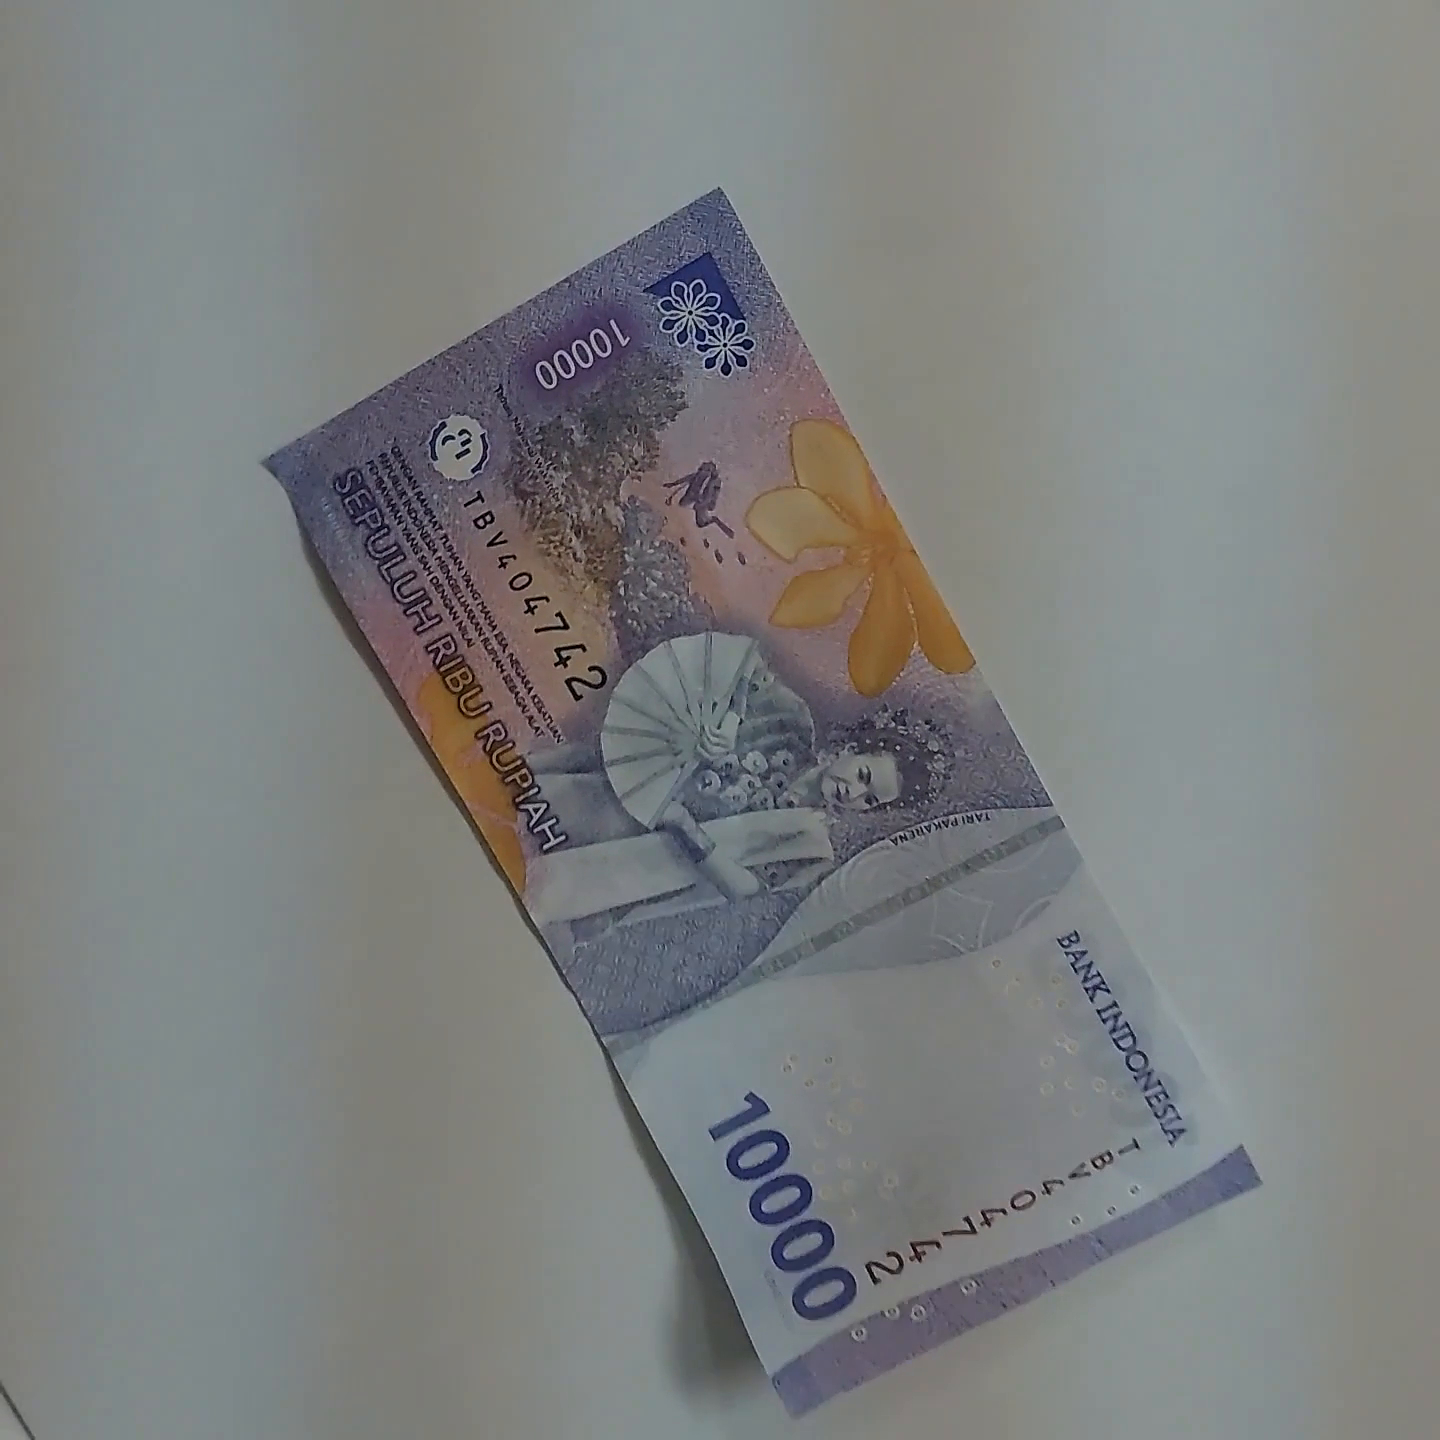10k: (236, 456, 795, 1440)
